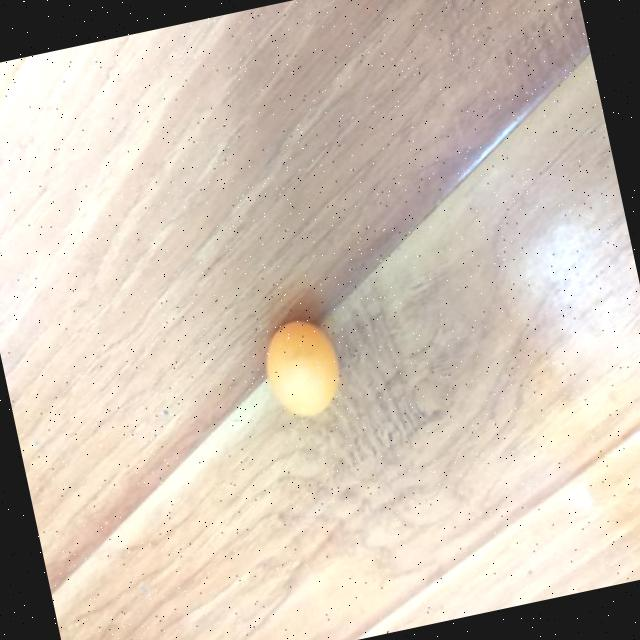ping-pong-ball: (258, 312, 346, 420)
